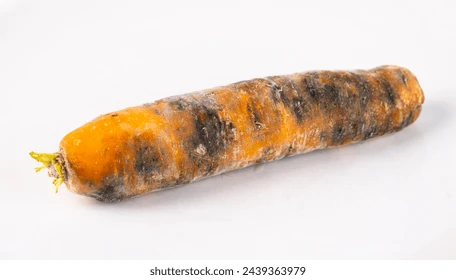rotten carrot: (24, 59, 416, 227)
